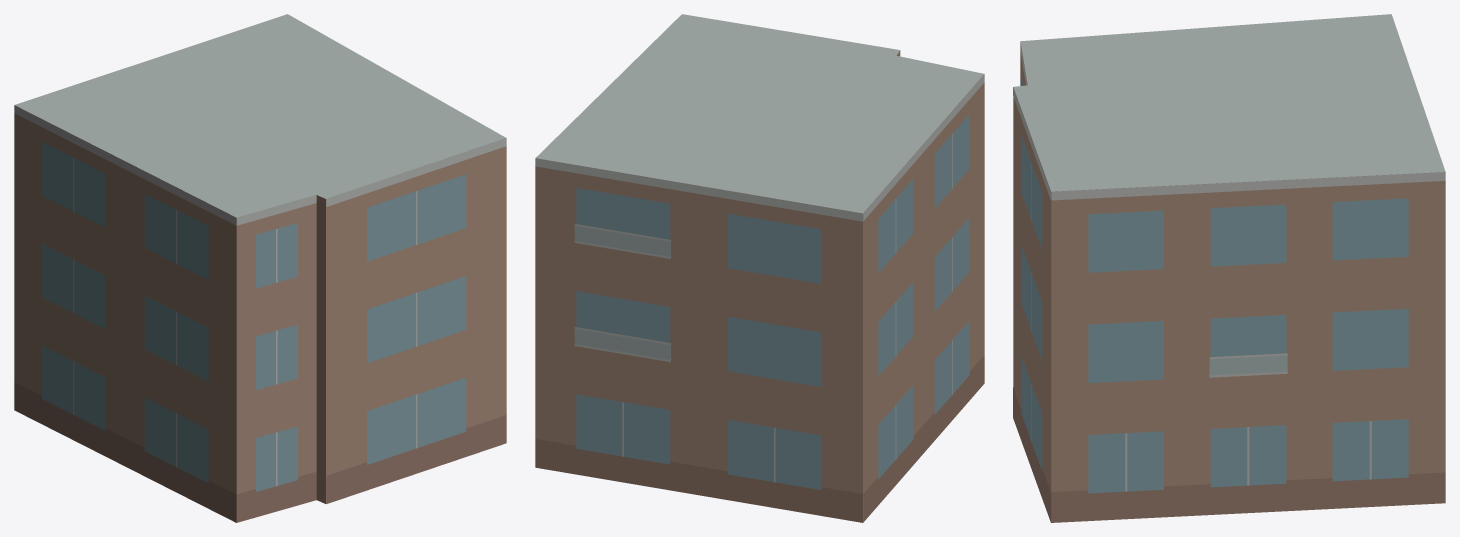
File: survey-upis-33004847.glb
3 renders of one model, left to right at view 1: azimuth 30°, elevation 25°; view 2: azimuth 150°, elevation 25°; view 3: azimuth 270°, elevation 25°, orthographic. The views are drawn at different scales.
Parts seen in each view (by area): view 1: survey-upis-33004847.tmp; view 2: survey-upis-33004847.tmp; view 3: survey-upis-33004847.tmp.
Boxes of the visible parts, x1,y1,x2,y2 form: survey-upis-33004847.tmp: (14, 14, 506, 522); survey-upis-33004847.tmp: (535, 14, 984, 522); survey-upis-33004847.tmp: (1013, 14, 1445, 522).
Size of the model in its own units: 10.54 by 9.15 by 10.84.
